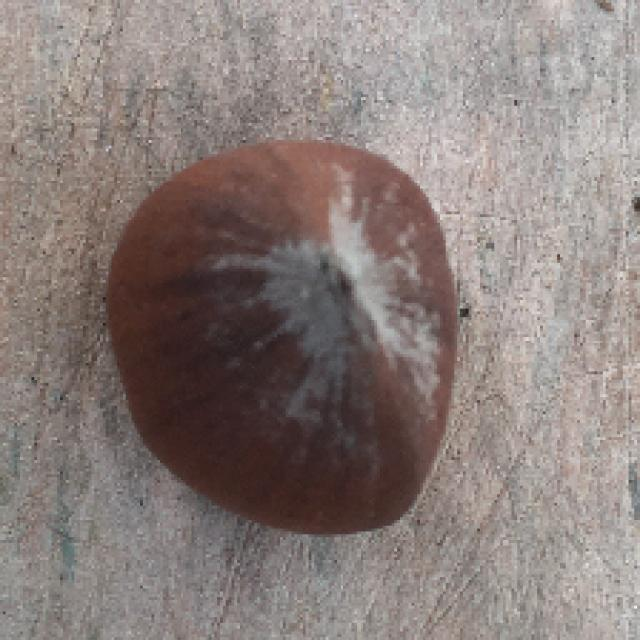qualityHazelnut: (101, 126, 467, 540)
